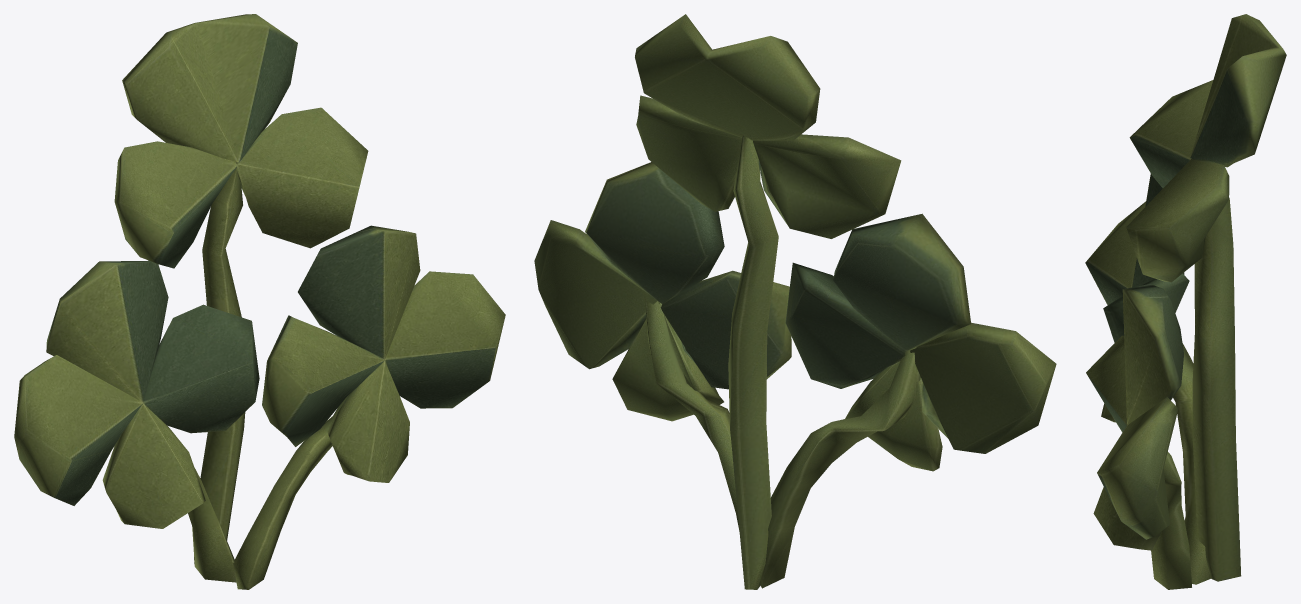
File: AW-CLOVER-001-v0.2.glb
3 views of the same model, side by side, from view 1: azimuth 30°, elevation 25°; view 2: azimuth 150°, elevation 25°; view 3: azimuth 270°, elevation 25° (orthographic). The views are drawn at different scales.
Parts seen in each view (by area): view 1: AW-CLOVER-001_meter_ground_pivot; view 2: AW-CLOVER-001_meter_ground_pivot; view 3: AW-CLOVER-001_meter_ground_pivot.
Boxes of the visible parts, left/top/right/bottom form: AW-CLOVER-001_meter_ground_pivot: left=14, top=14, right=505, bottom=589; AW-CLOVER-001_meter_ground_pivot: left=534, top=14, right=1056, bottom=589; AW-CLOVER-001_meter_ground_pivot: left=1085, top=14, right=1286, bottom=589.
Bounding box in the file's own units: 0.2364 × 0.25 × 0.0832.
Materials: 1 (1 with a texture image).
